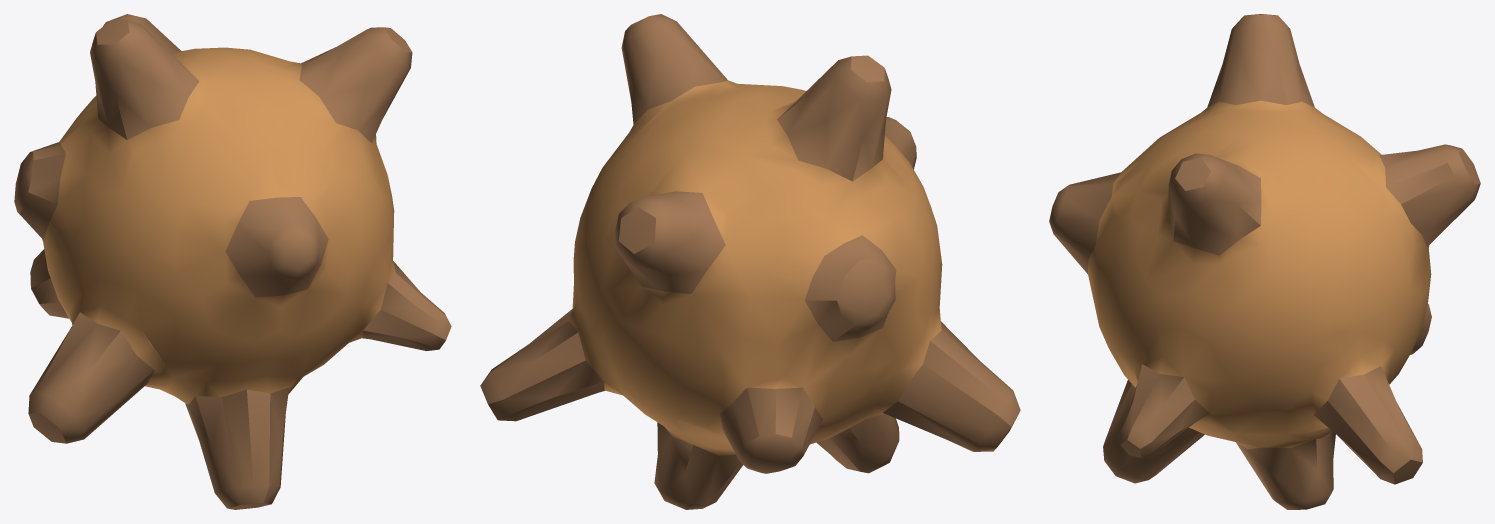
Rendered from planet_small.glb.
3 views of the same model, side by side, from view 1: azimuth 30°, elevation 25°; view 2: azimuth 150°, elevation 25°; view 3: azimuth 270°, elevation 25° (orthographic). The views are drawn at different scales.
Visible parts, largest first — view 1: Planet_5; view 2: Planet_5; view 3: Planet_5.
Part boxes in pixels (x1,y1,x2,y2): Planet_5: (14, 14, 451, 509); Planet_5: (480, 14, 1020, 509); Planet_5: (1049, 14, 1480, 509).
Bounding box in the file's own units: 4.23 × 4.52 × 4.03.
Materials: 1 (1 with a texture image).
